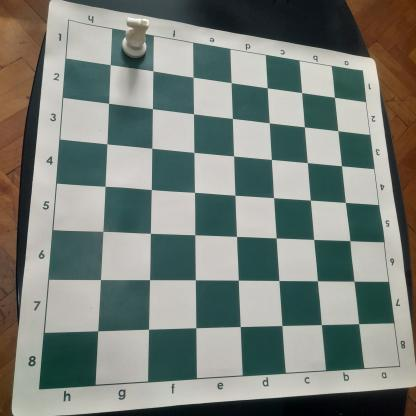white-knight: (120, 15, 150, 60)
